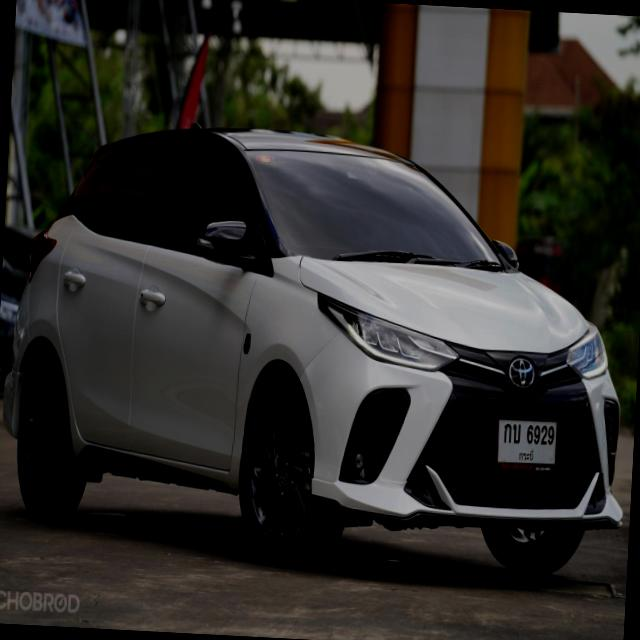license_plate: (490, 410, 561, 480)
